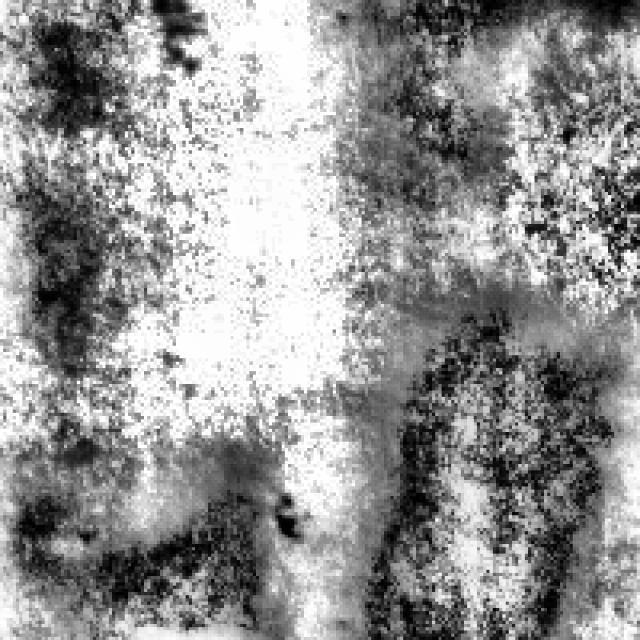Scratches: (358, 288, 621, 637), (19, 448, 282, 634), (374, 0, 564, 170)
